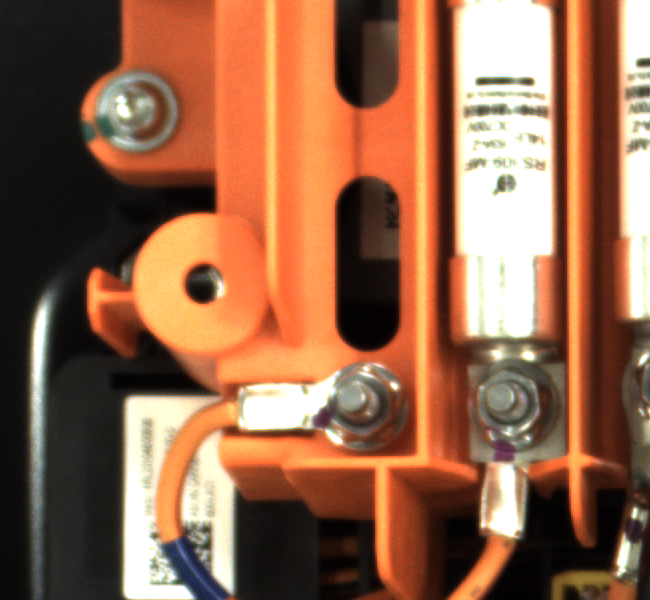screw_m: (90, 61, 191, 155)
screw_s: (461, 359, 562, 455), (314, 365, 415, 450)
